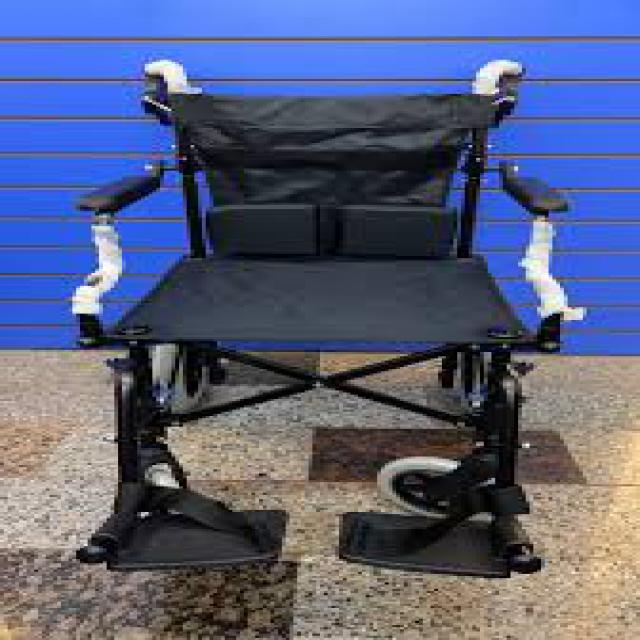wheelchair: (41, 47, 628, 638)
